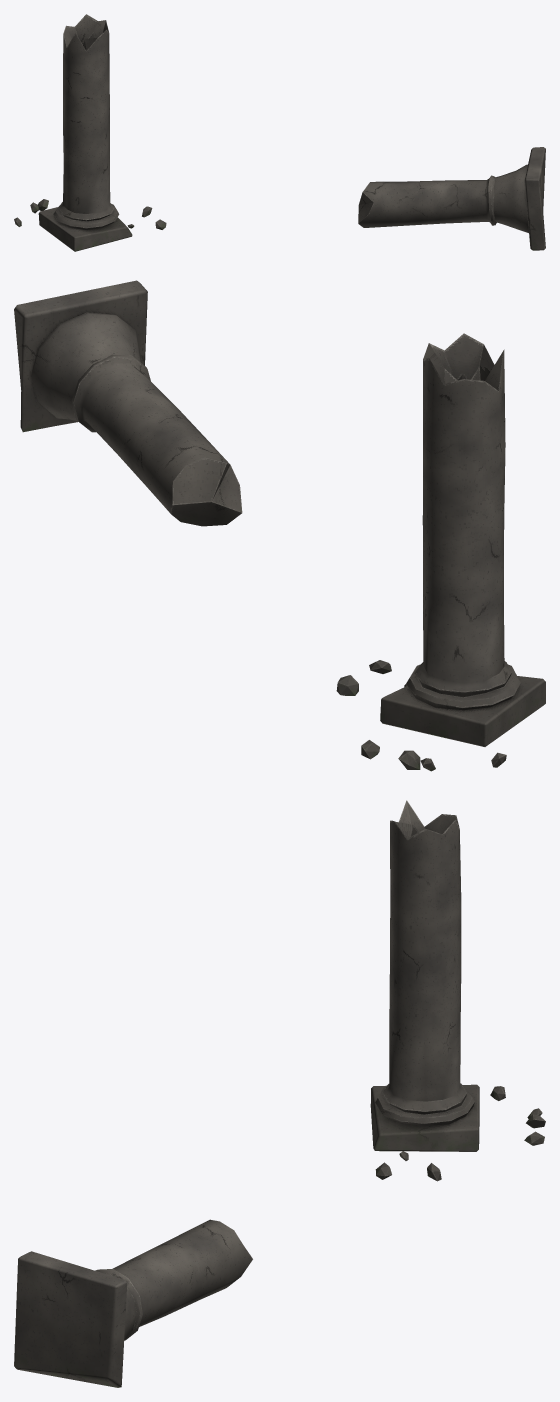
File: column_broken.glb
3 views of the same model, one above another, from view 1: azimuth 30°, elevation 25°; view 2: azimuth 150°, elevation 25°; view 3: azimuth 270°, elevation 25° (orthographic). The views are drawn at different scales.
Parts seen in each view (by area): view 1: ColumnBroken; view 2: ColumnBroken; view 3: ColumnBroken.
Part boxes in pixels (box(x1,y1,x2,y2)): ColumnBroken: box(14, 14, 545, 251); ColumnBroken: box(14, 280, 545, 771); ColumnBroken: box(14, 800, 545, 1387).
Size of the model in its own units: 4.12 by 2.06 by 3.07.
1 material, 1 textured.
